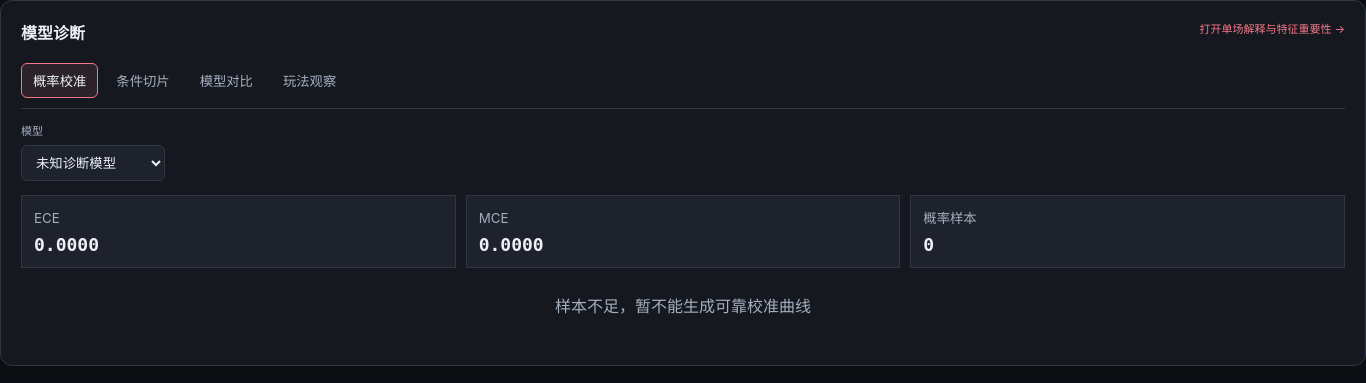
Test: 模型对比的未知指标 › 模型诊断的共享对比表格也能读取未知损失
Check: the text "样本不足，暂不能生成可靠校准曲线" is shown, box left=555, top=296, right=811, bottom=316
Click the tab "模型对比" at (226, 80), box left=188, top=63, right=265, bottom=98
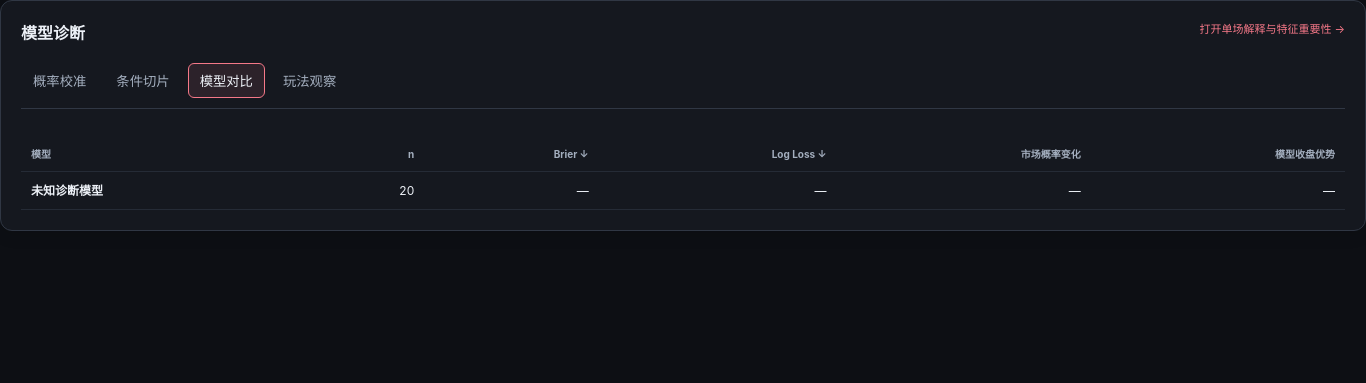
Check: the column heading "未知诊断模型" is shown, box left=21, top=171, right=313, bottom=209
